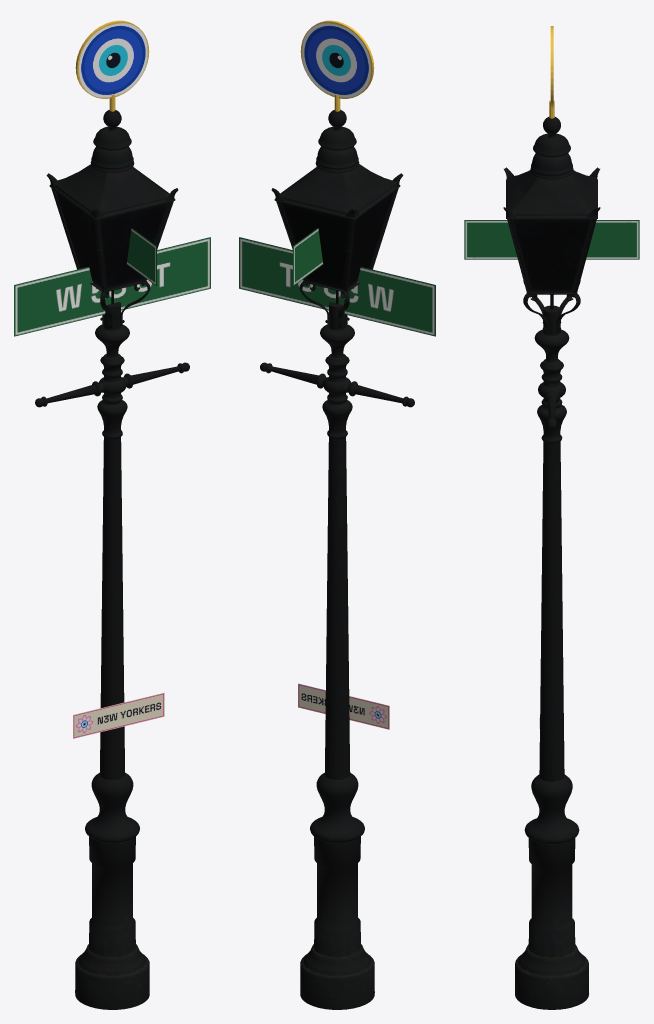
The model's file is nyb_walking_lamp.glb.
3 renders of one model, left to right at view 1: azimuth 30°, elevation 25°; view 2: azimuth 150°, elevation 25°; view 3: azimuth 270°, elevation 25°, orthographic.
Parts seen in each view (by area): view 1: street_lamp_01, add_lbl_5702186cf9.png, add_nazar_die.png, stk_label_n3w.png, add_lbl_e9e8d57516.png, Cylinder; view 2: street_lamp_01, add_lbl_5702186cf9.png, add_nazar_die.png, stk_label_n3w.png, add_lbl_e9e8d57516.png, Cylinder; view 3: street_lamp_01, add_lbl_e9e8d57516.png.
Part boxes in pixels (x1=…): street_lamp_01: x1=35, y1=110, x2=189, y2=1009; add_lbl_5702186cf9.png: x1=14, y1=237, x2=210, y2=336; add_nazar_die.png: x1=79, y1=23, x2=147, y2=97; stk_label_n3w.png: x1=73, y1=692, x2=164, y2=738; add_lbl_e9e8d57516.png: x1=126, y1=228, x2=156, y2=285; Cylinder: x1=75, y1=20, x2=149, y2=98; street_lamp_01: x1=260, y1=109, x2=414, y2=1009; add_lbl_5702186cf9.png: x1=239, y1=237, x2=435, y2=336; add_nazar_die.png: x1=302, y1=23, x2=370, y2=97; stk_label_n3w.png: x1=298, y1=683, x2=389, y2=729; add_lbl_e9e8d57516.png: x1=293, y1=228, x2=323, y2=285; Cylinder: x1=300, y1=20, x2=374, y2=98; street_lamp_01: x1=503, y1=117, x2=600, y2=1009; add_lbl_e9e8d57516.png: x1=464, y1=220, x2=639, y2=259.
Size of the model in its own units: 0.9 by 4.26 by 0.7.
9 materials, 7 textured.
